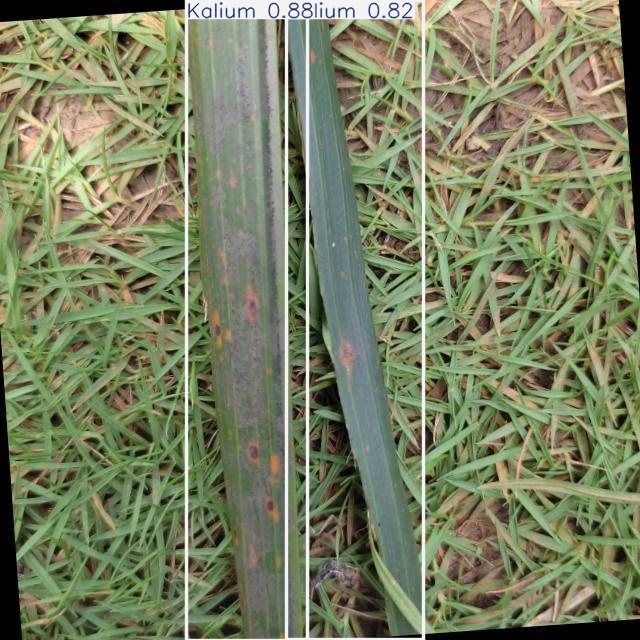Kalium: (286, 1, 424, 640), (186, 1, 307, 640)
